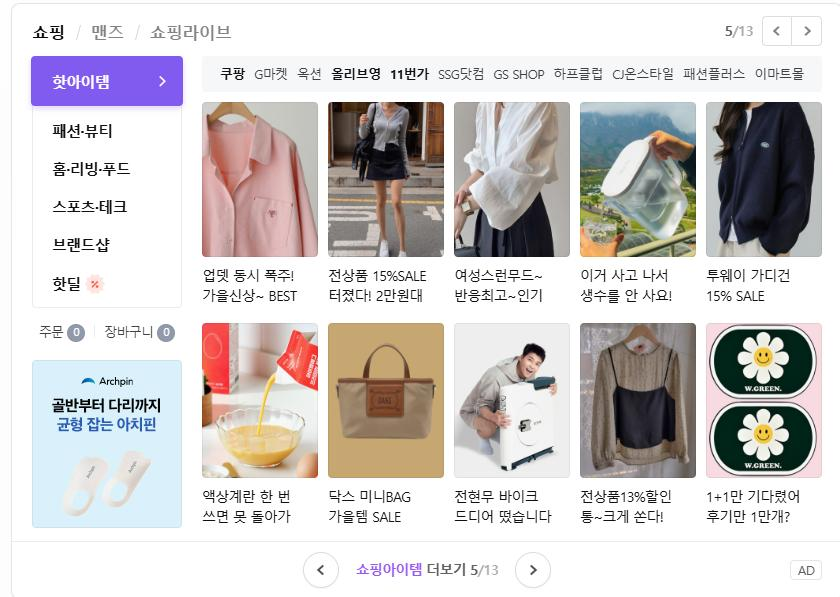button: (33, 361, 182, 523), (30, 54, 182, 104), (33, 268, 180, 310), (33, 112, 181, 147), (32, 154, 182, 186), (30, 228, 179, 258), (30, 196, 182, 223), (153, 20, 233, 41), (299, 557, 342, 587), (608, 66, 678, 83), (38, 322, 89, 345), (490, 63, 547, 83), (32, 22, 77, 47), (100, 326, 172, 341), (90, 17, 133, 42), (683, 65, 744, 82), (550, 63, 604, 82), (332, 61, 380, 81), (757, 65, 810, 82), (528, 552, 558, 582), (439, 62, 483, 82), (795, 19, 824, 49), (391, 61, 430, 83), (765, 14, 793, 43), (219, 63, 251, 85), (255, 63, 294, 81), (294, 63, 320, 81)
